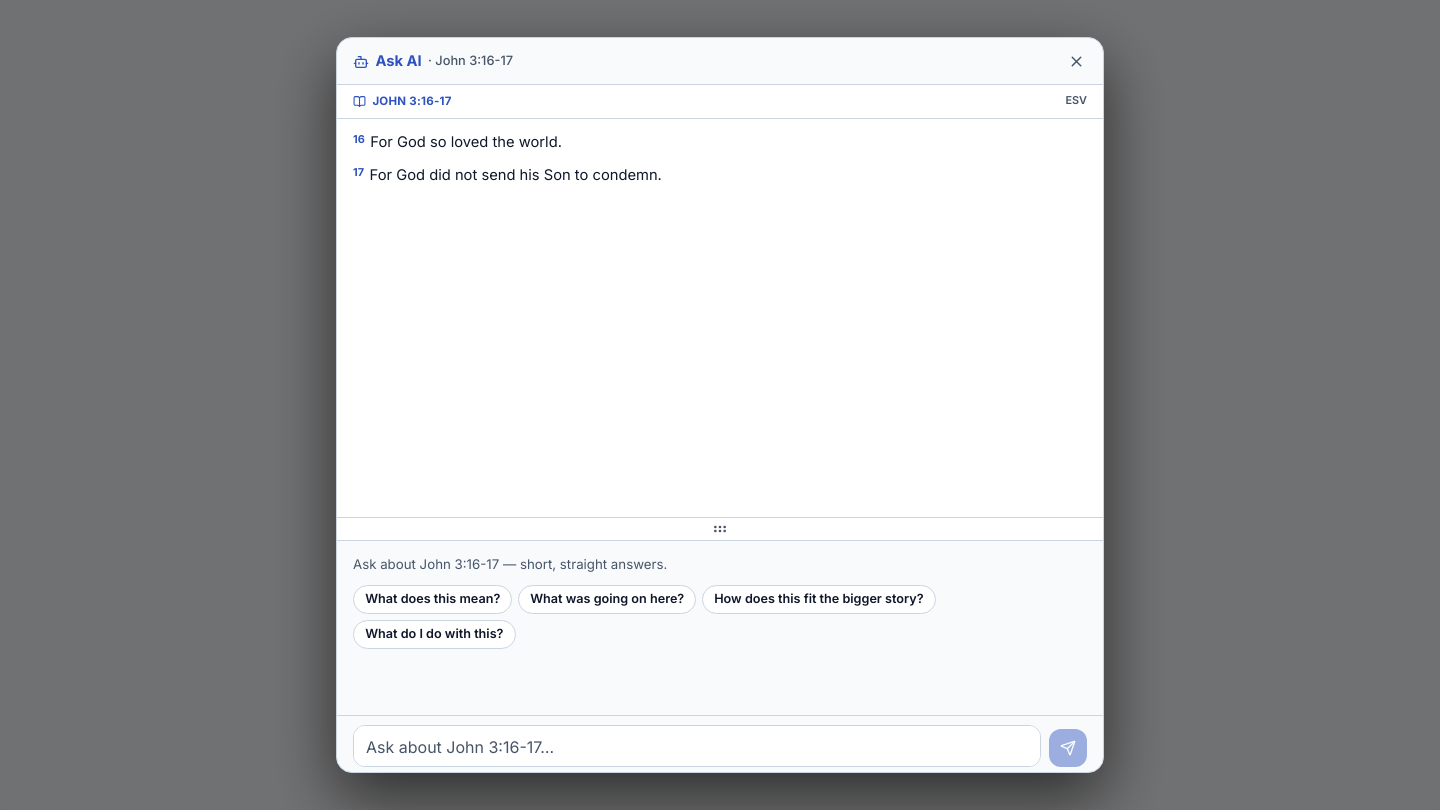
Test: AskAiPanel › replays the question when a failed turn is retried
In the text box named "ask a question": (697,746) [353, 725, 1041, 767], type "Why?"
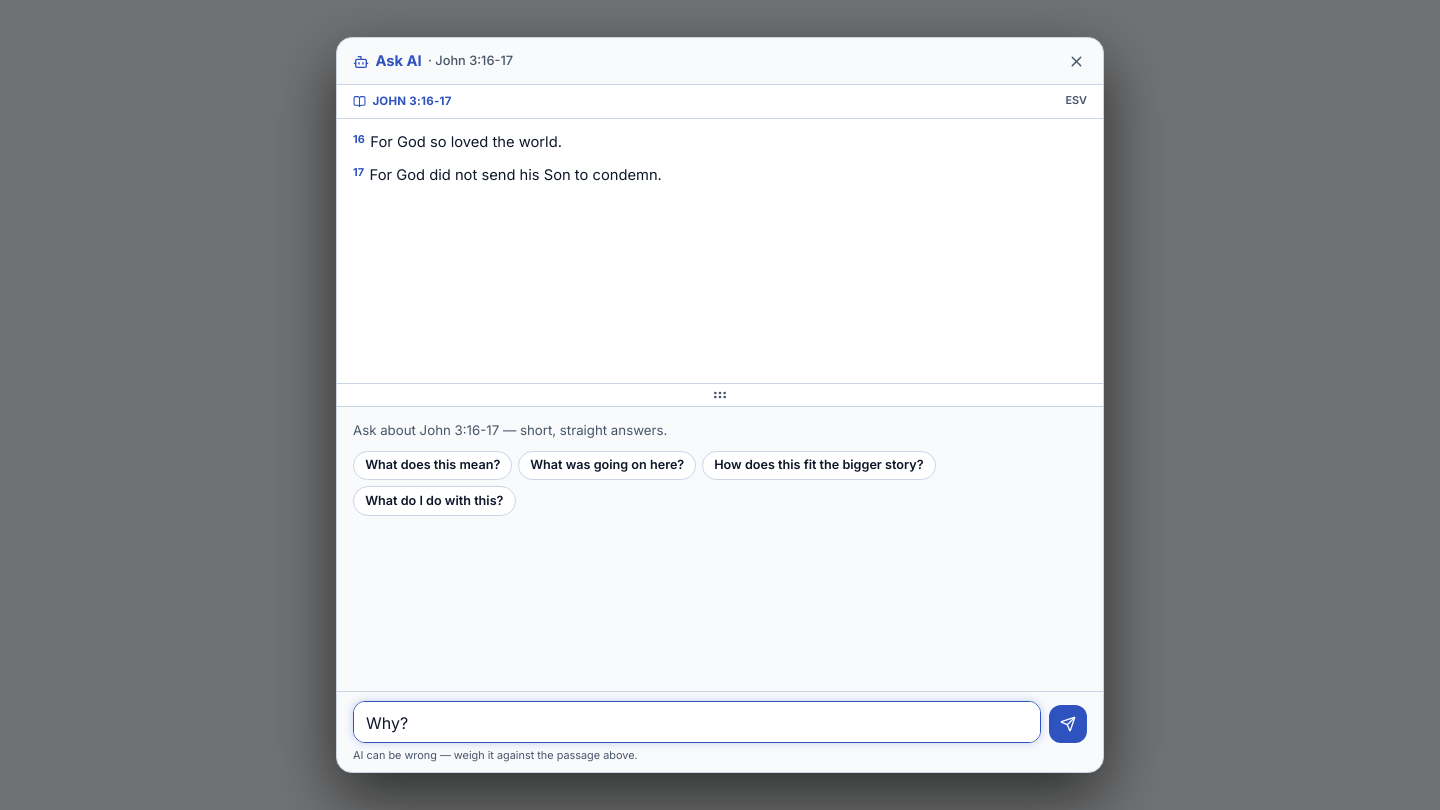
Click the button named "send question": (1068,724) [1049, 705, 1087, 743]
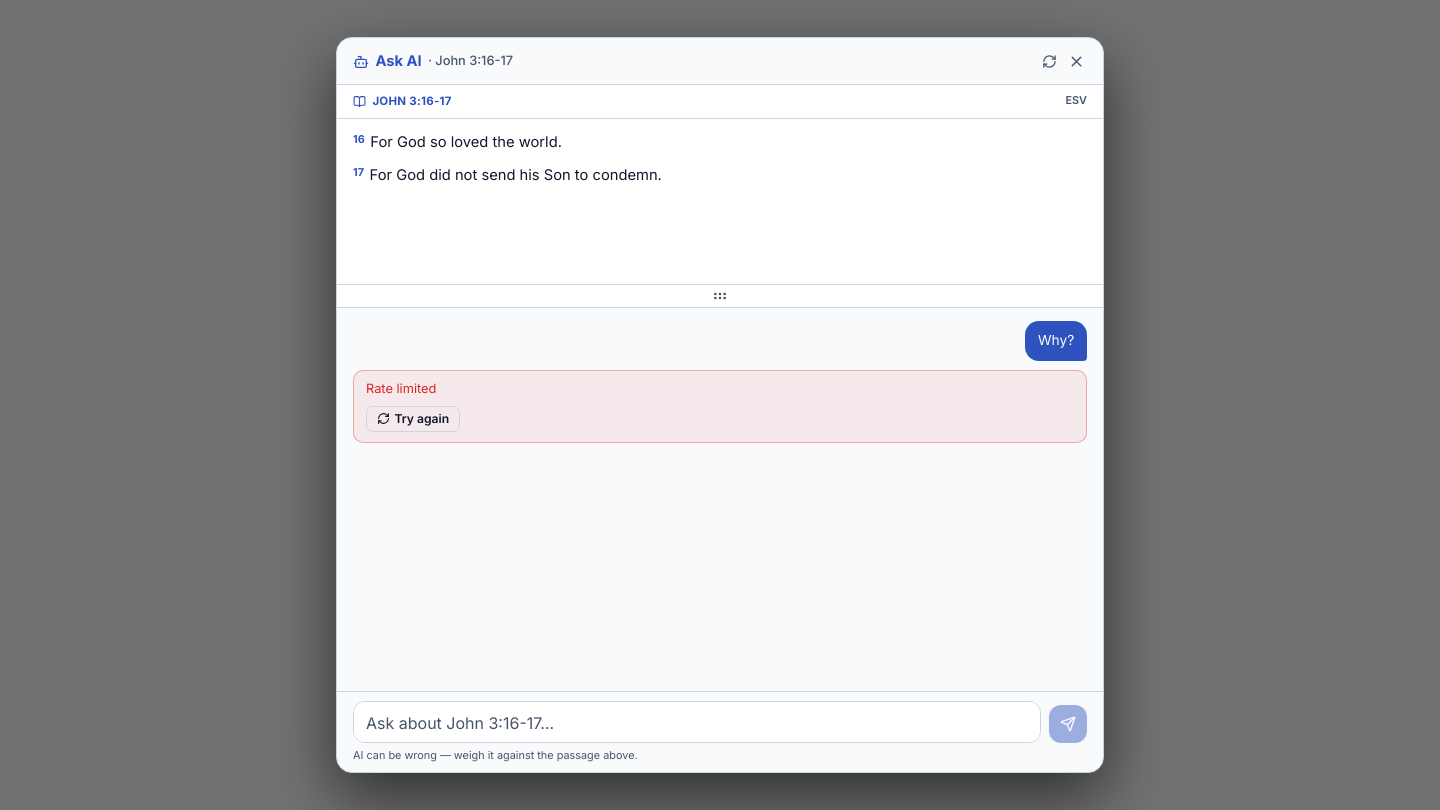
Now the text "Rate limited" is shown, box [366, 381, 436, 396]
Click the button "Try again": (413,419) [366, 406, 460, 432]
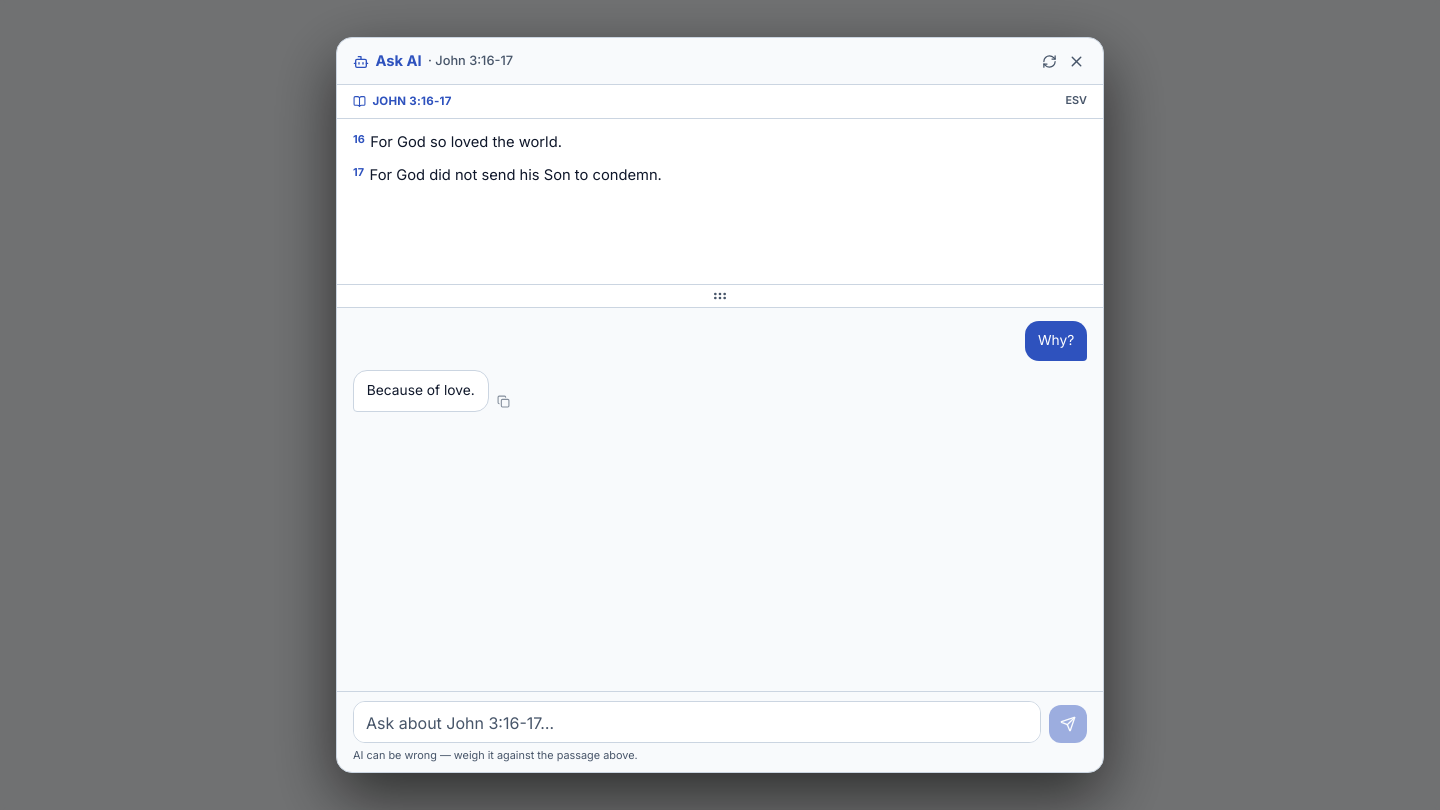
Now the text "Why?" is shown once, box [1038, 329, 1074, 352]
Now the text "Because of love." is shown, box [367, 379, 475, 402]
